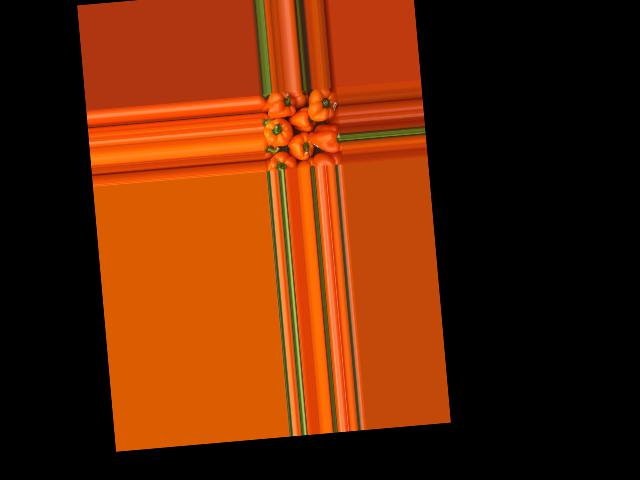bell_pepper: (312, 151, 344, 166)
